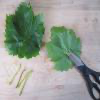grape leaf: (5, 2, 46, 60), (45, 23, 82, 67)
